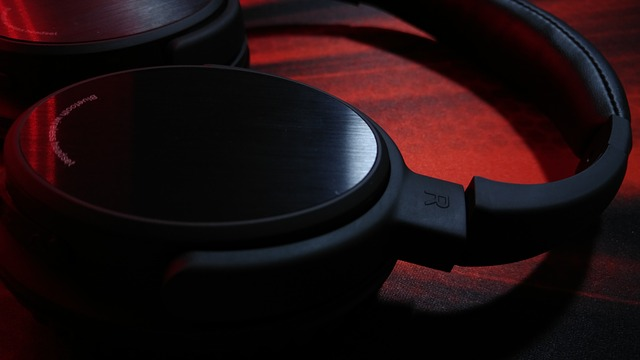headphones: (1, 1, 632, 326)
